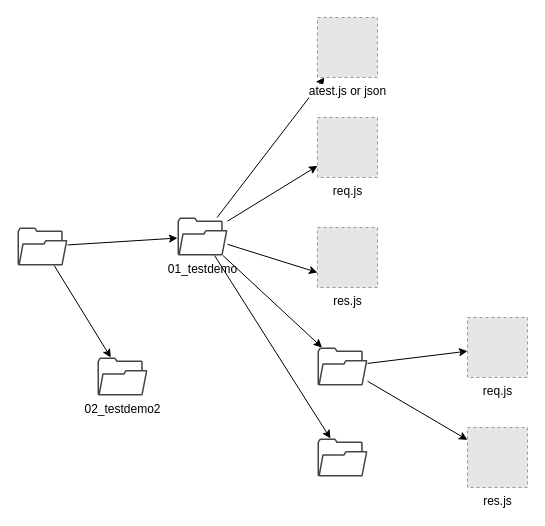
Some shapes in this 545 by 526 pixel diagram are drawn without their labels. Grey dashed boxes stand in for pictures. Here are the shapes that lost their labels. From the top down, the centre of each, then its label:
the point at 42,246: atest
the point at 342,366: case001
the point at 342,457: case...
